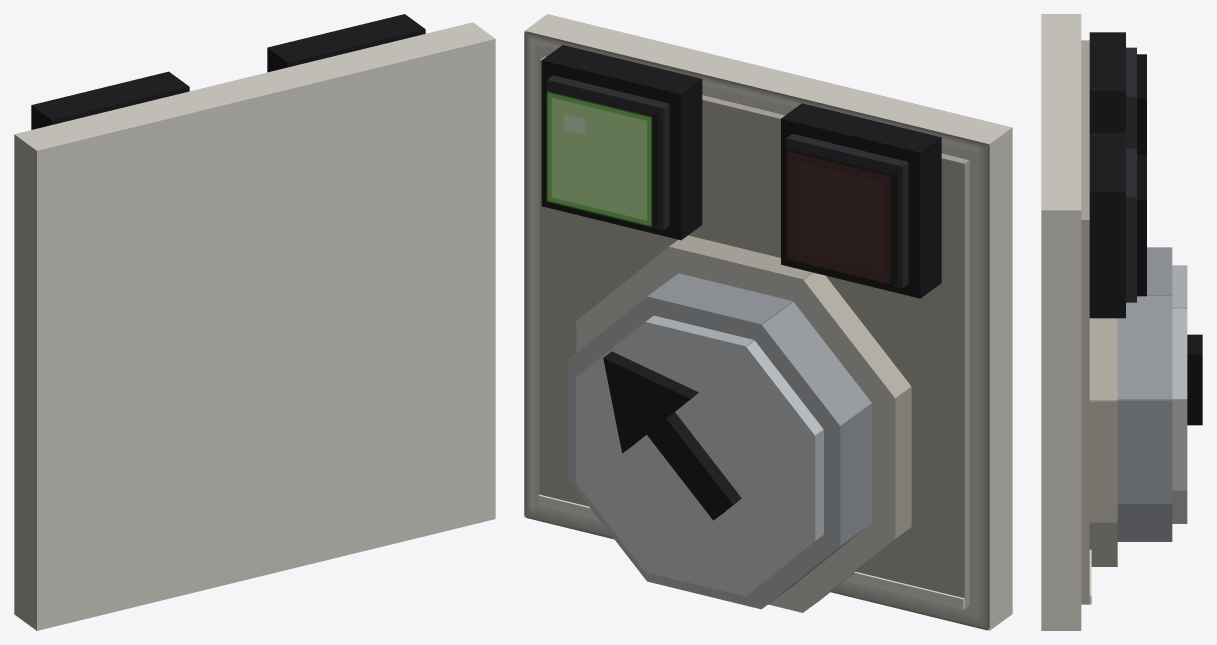
File: knob_switch_open.obj
The picture shows the model from 3 angles, left to right: view 1: azimuth 30°, elevation 25°; view 2: azimuth 150°, elevation 25°; view 3: azimuth 270°, elevation 25°; orthographic projection. The views are drawn at different scales.
Parts seen in each view (by area): view 1: Panel, LampRed, LampGreen; view 2: Panel, Knob, LampGreen, LampRed; view 3: Panel, Knob, LampGreen, LampRed.
Boxes of the visible parts, <box> form: Panel: <box>14,22,495,630</box>; LampRed: <box>31,71,189,129</box>; LampGreen: <box>267,14,425,72</box>; Panel: <box>524,14,1012,630</box>; Knob: <box>568,235,911,612</box>; LampGreen: <box>541,45,702,240</box>; LampRed: <box>781,103,941,298</box>; Panel: <box>1041,14,1091,630</box>; Knob: <box>1089,247,1202,566</box>; LampGreen: <box>1089,133,1146,318</box>; LampRed: <box>1089,32,1146,154</box>.
Bounding box in the file's own units: 0.875 × 0.8875 × 0.3038.
1 material, 1 textured.
